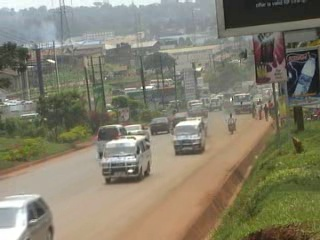Car: (0, 191, 59, 239), (96, 121, 127, 158), (124, 121, 149, 142), (148, 114, 170, 137), (169, 109, 190, 127), (188, 101, 207, 119)
Motorcycle: (224, 112, 237, 135)
